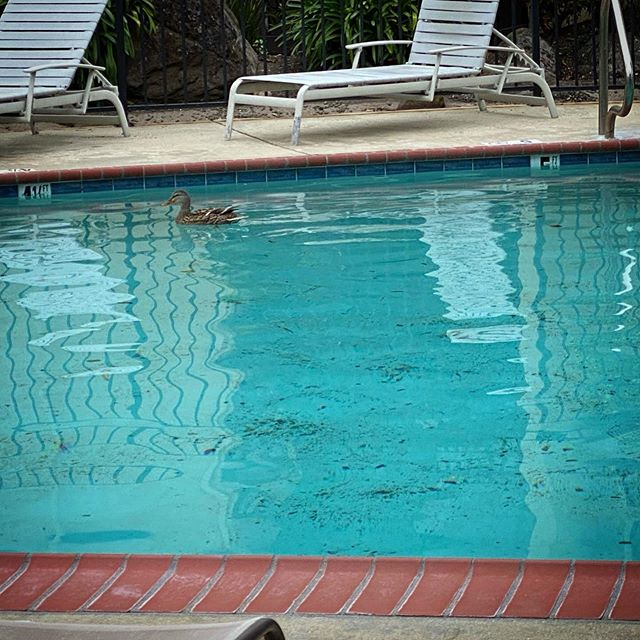animal: (155, 185, 253, 237)
chair: (224, 1, 561, 139), (1, 1, 152, 133)
pool: (5, 146, 640, 552)
